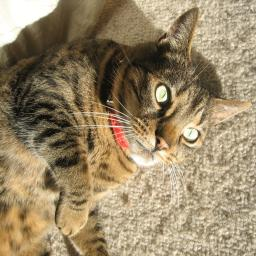catnose: (155, 133, 170, 153)
